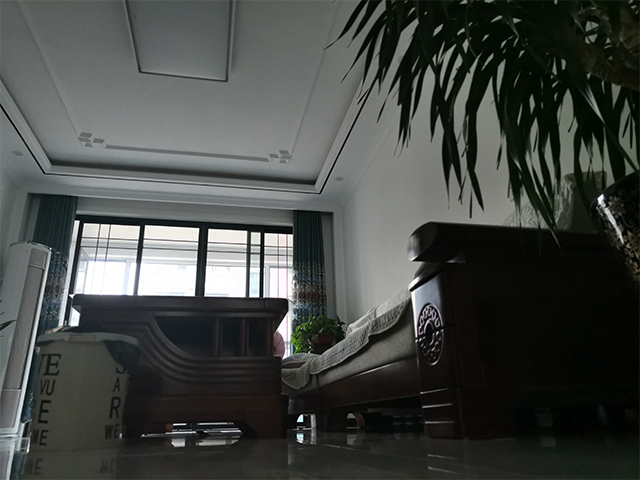sofa: (279, 219, 640, 441)
table: (68, 292, 292, 441)
trashcan: (26, 330, 145, 453)
